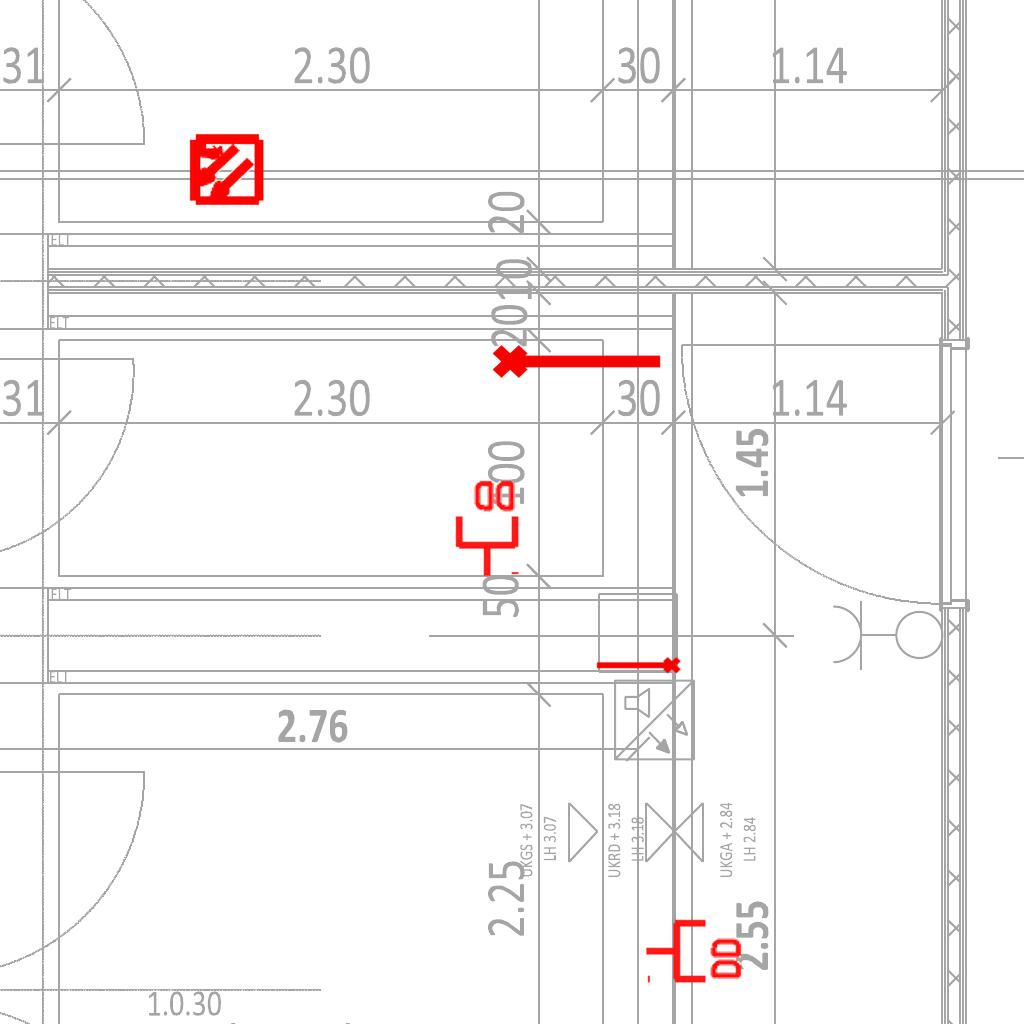ASR_Ansaugoeffnung: (490, 336, 666, 382), (594, 655, 682, 678)
Datenanschluss_zweifach: (451, 476, 520, 579), (643, 915, 746, 984)
OT_Multisensormelder_(Kombination_RMO_WMD): (168, 113, 281, 226)
